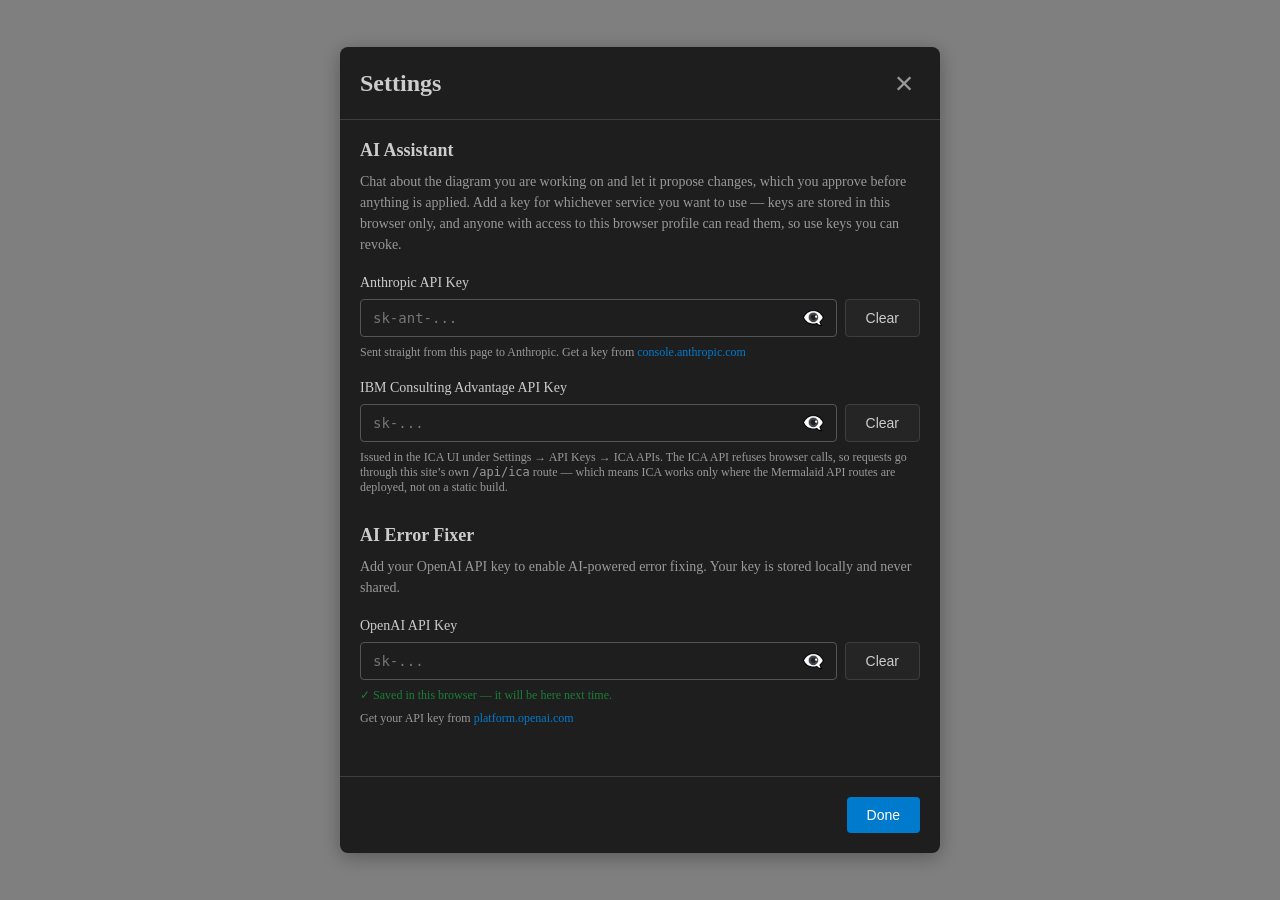
Test: Settings › warns about a key that is not shaped like an Anthropic one
Step 1. Type "sk-proj-this-is-an-openai-key" into the password field labelled "Anthropic API Key" → (598, 318), box [360,299,836,337]
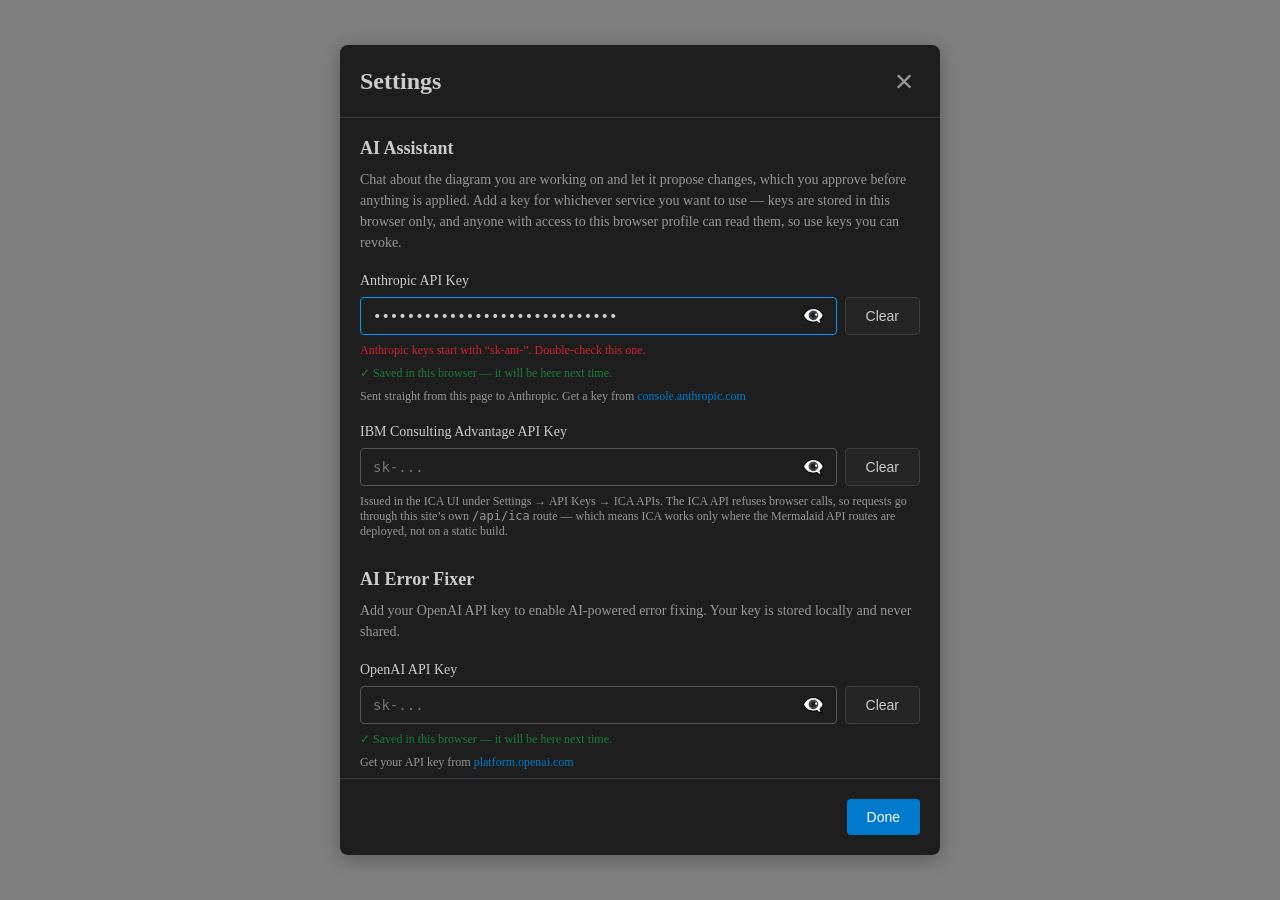
Check: the text "Anthropic keys start with “sk-ant-”. Double-check this one." is shown, box [360,343,646,357]
